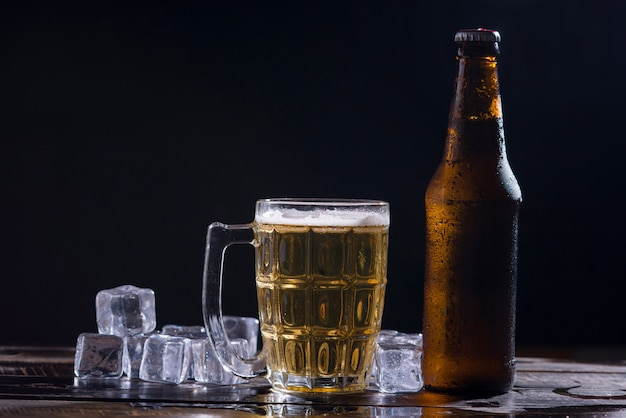alcohol: (422, 28, 526, 393), (206, 197, 391, 395)
